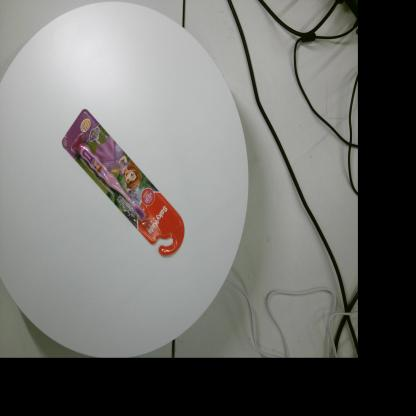Personal Hygiene: (62, 109, 185, 256)
